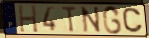4: (42, 6, 58, 33)
C: (121, 7, 144, 34)
G: (102, 4, 123, 35)
H: (17, 3, 39, 33)
N: (79, 6, 102, 34)
T: (61, 6, 77, 33)
